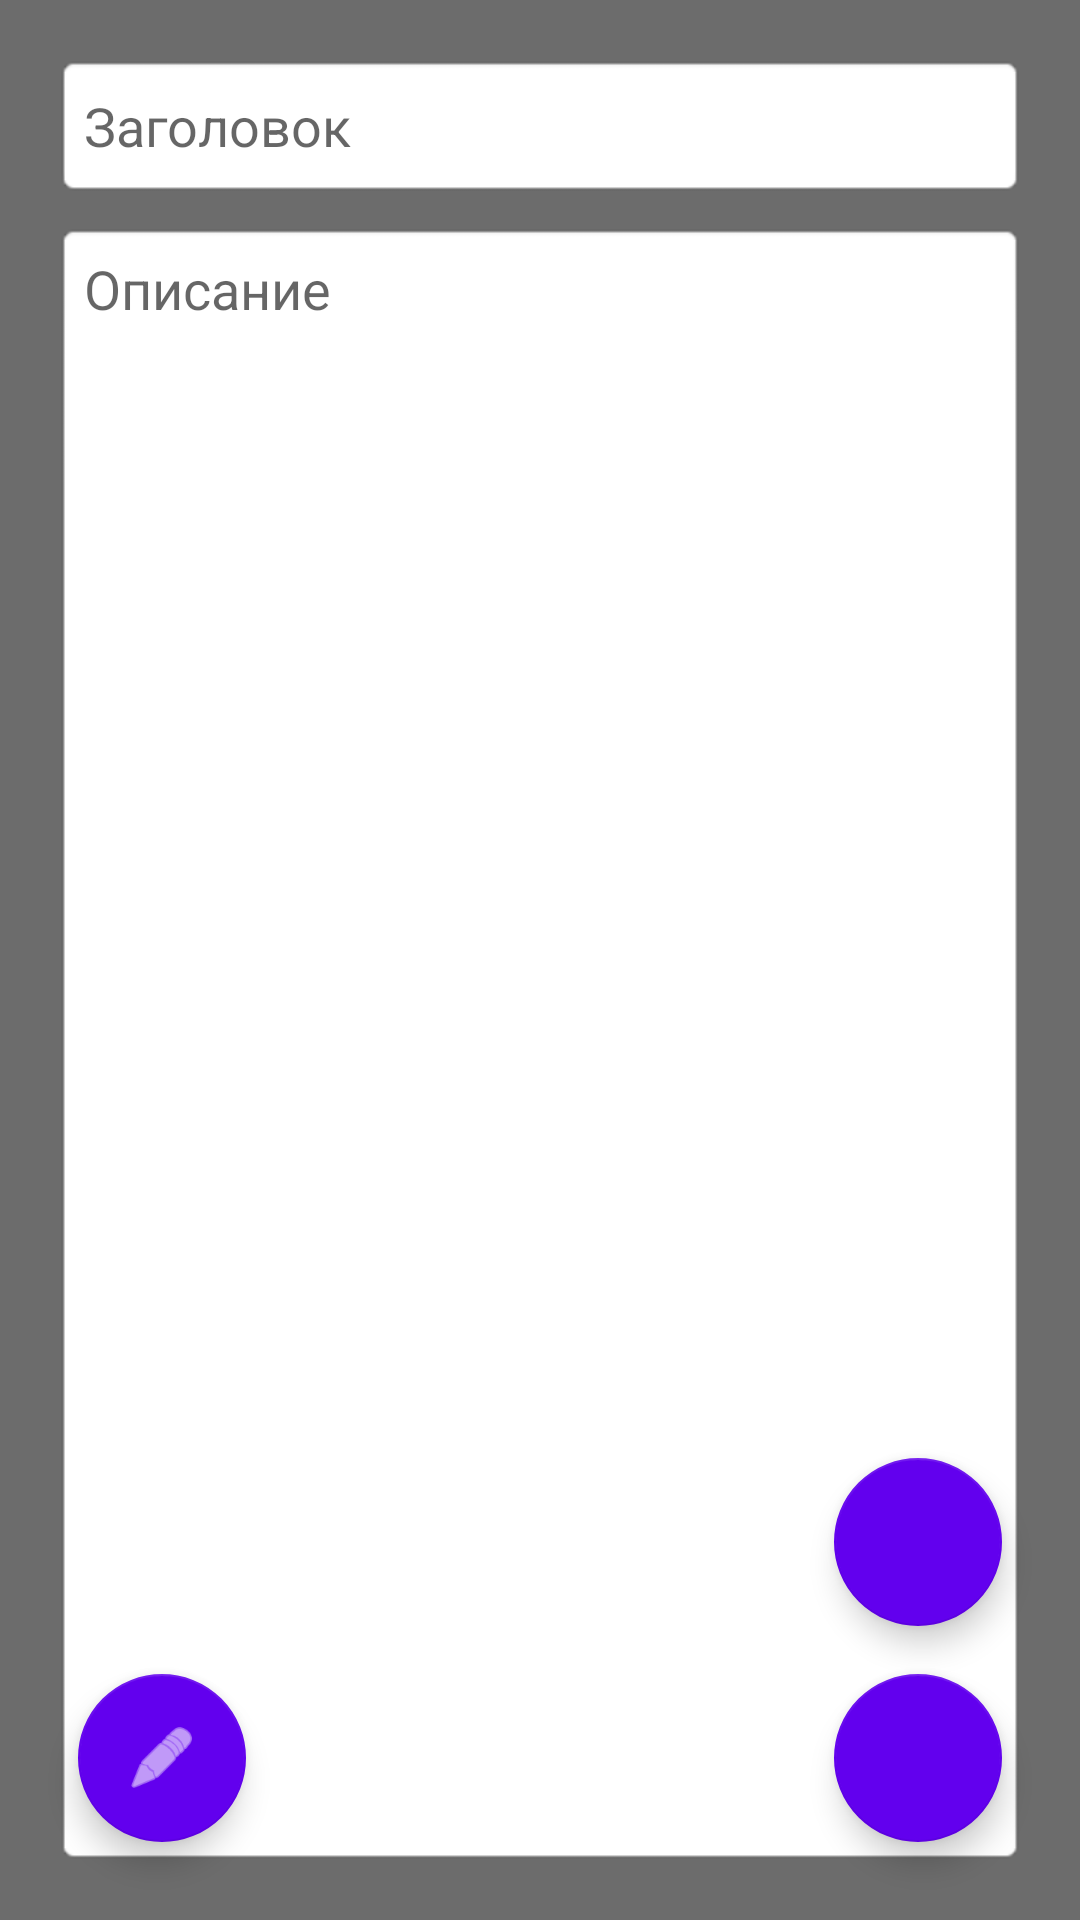

Icon bounding boxes for this 1080×1920 phone screenshot, format BBox(x1, y1, x2, y2):
edit: BBox(78, 1674, 246, 1842)
